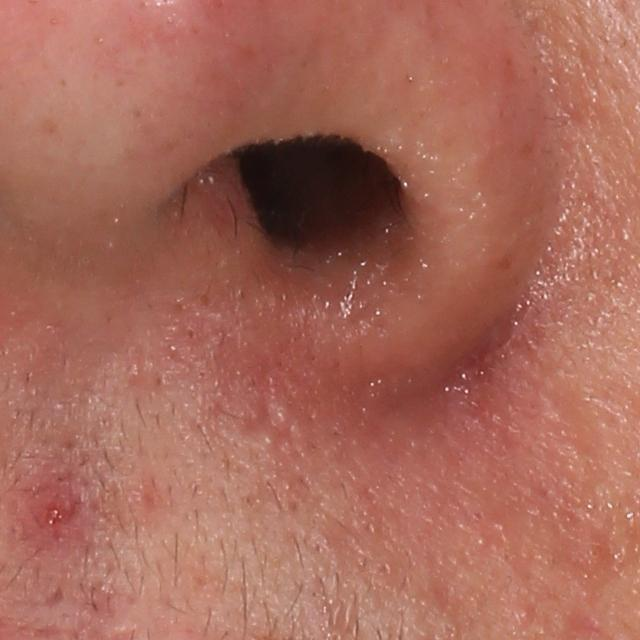atrophic_scar: (236, 371, 296, 465)
